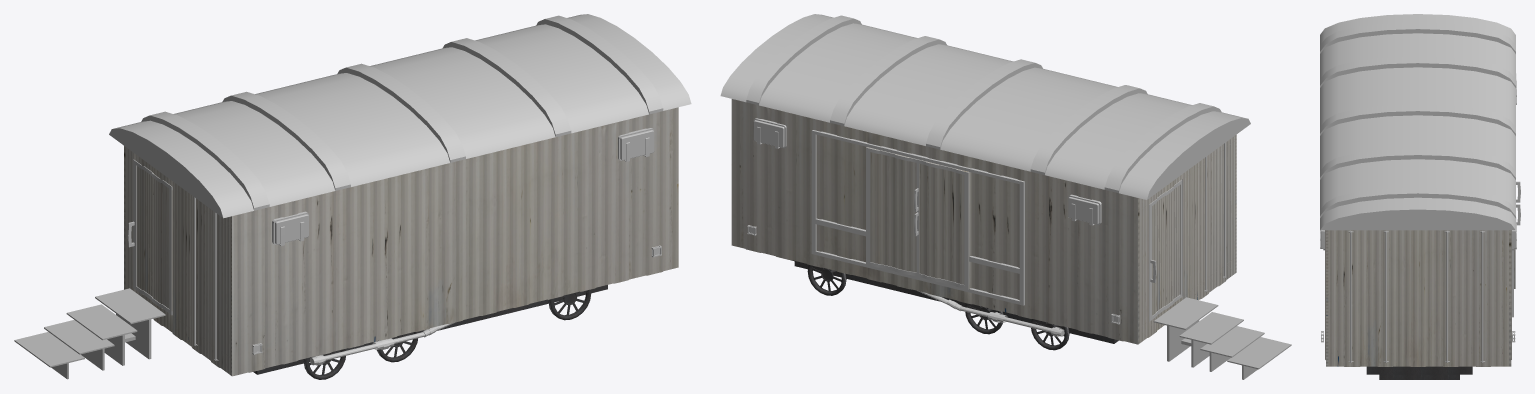
File: MDL_Vagãocasa.fbx
3 views of the same model, side by side, from view 1: azimuth 30°, elevation 25°; view 2: azimuth 150°, elevation 25°; view 3: azimuth 270°, elevation 25° (orthographic). The views are drawn at different scales.
Parts seen in each view (by area): view 1: Vagão, Escada, P2_P1; view 2: Vagão, P2_P, Escada, P2_P1; view 3: Vagão.
Part boxes in pixels (bbox=[...]): Vagão: bbox=[109, 14, 691, 379]; Escada: bbox=[14, 288, 165, 379]; P2_P1: bbox=[133, 159, 172, 314]; Vagão: bbox=[720, 14, 1250, 350]; P2_P: bbox=[866, 147, 970, 289]; Escada: bbox=[1153, 297, 1291, 379]; P2_P1: bbox=[1149, 179, 1182, 321]; Vagão: bbox=[1320, 14, 1516, 379].
Size of the model in its own units: 24.46 by 9.53 by 8.62.
